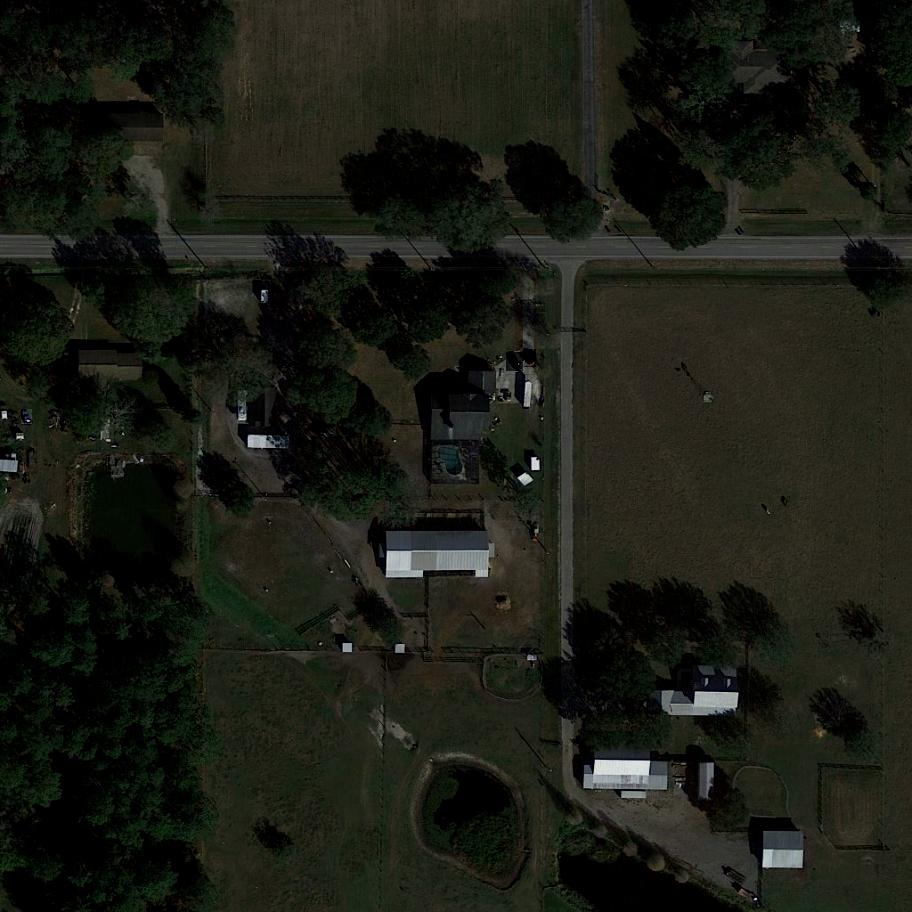small-vehicle: (507, 352, 525, 373), (524, 349, 537, 367), (22, 409, 33, 426)
